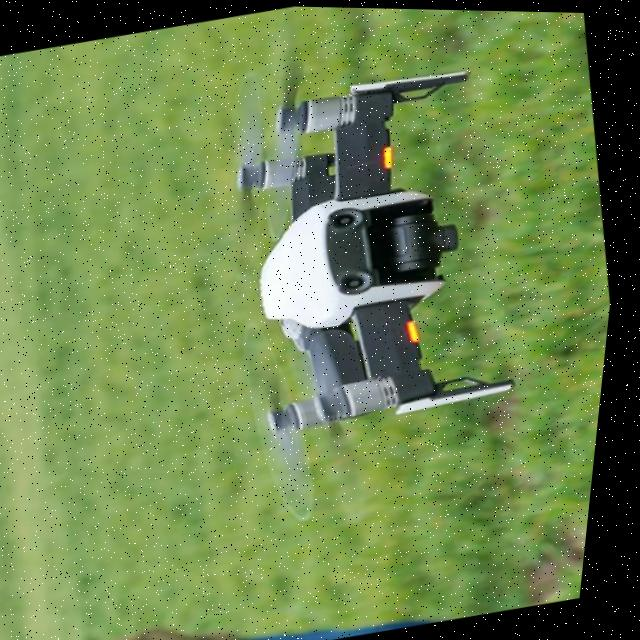drones: (133, 3, 607, 547)
